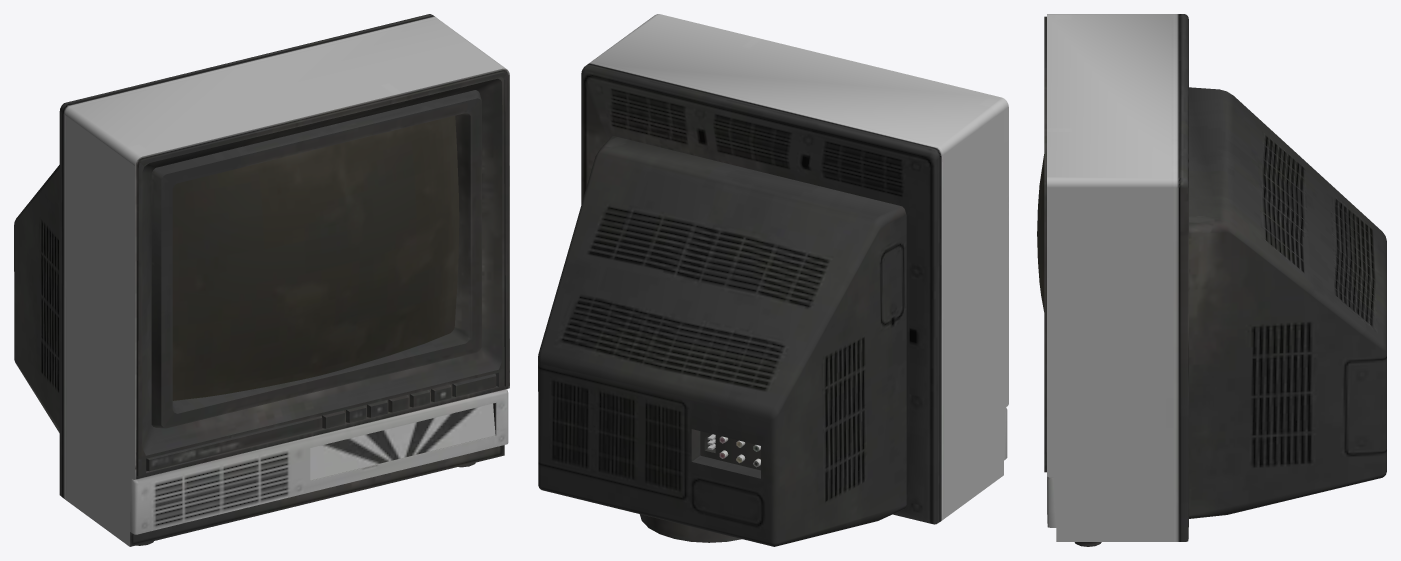
File: television_02.lite.glb
3 renders of one model, left to right at view 1: azimuth 30°, elevation 25°; view 2: azimuth 150°, elevation 25°; view 3: azimuth 270°, elevation 25°, orthographic. The views are drawn at different scales.
Parts seen in each view (by area): view 1: television_02; view 2: television_02; view 3: television_02.
Boxes of the visible parts, x1,y1,x2,y2 form: television_02: (14, 14, 509, 546); television_02: (538, 14, 1008, 546); television_02: (1037, 14, 1386, 546).
Bounding box in the file's own units: 0.3998 × 0.4114 × 0.3502.
1 material, 1 textured.
